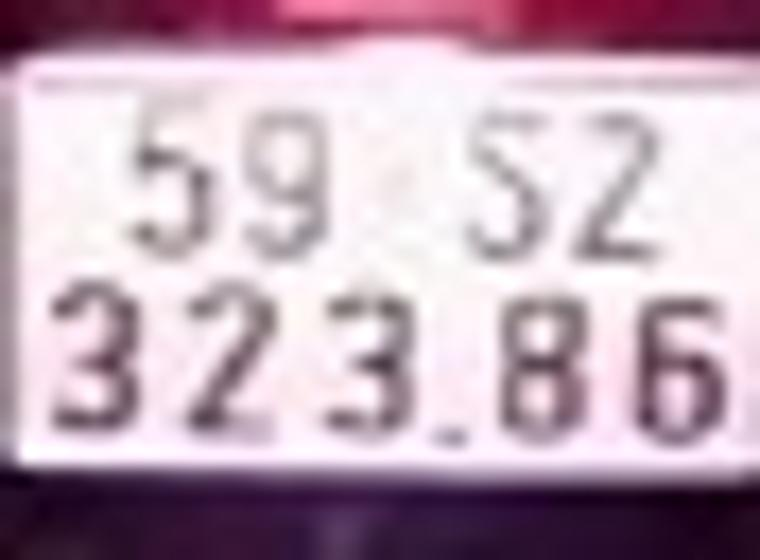2: (560, 100, 678, 269), (183, 271, 291, 438)
3: (317, 287, 426, 448), (48, 269, 152, 433)
5: (133, 91, 215, 269)
6: (626, 282, 737, 451)
8: (484, 282, 595, 456)
9: (236, 102, 335, 269)
S: (457, 102, 559, 266)
